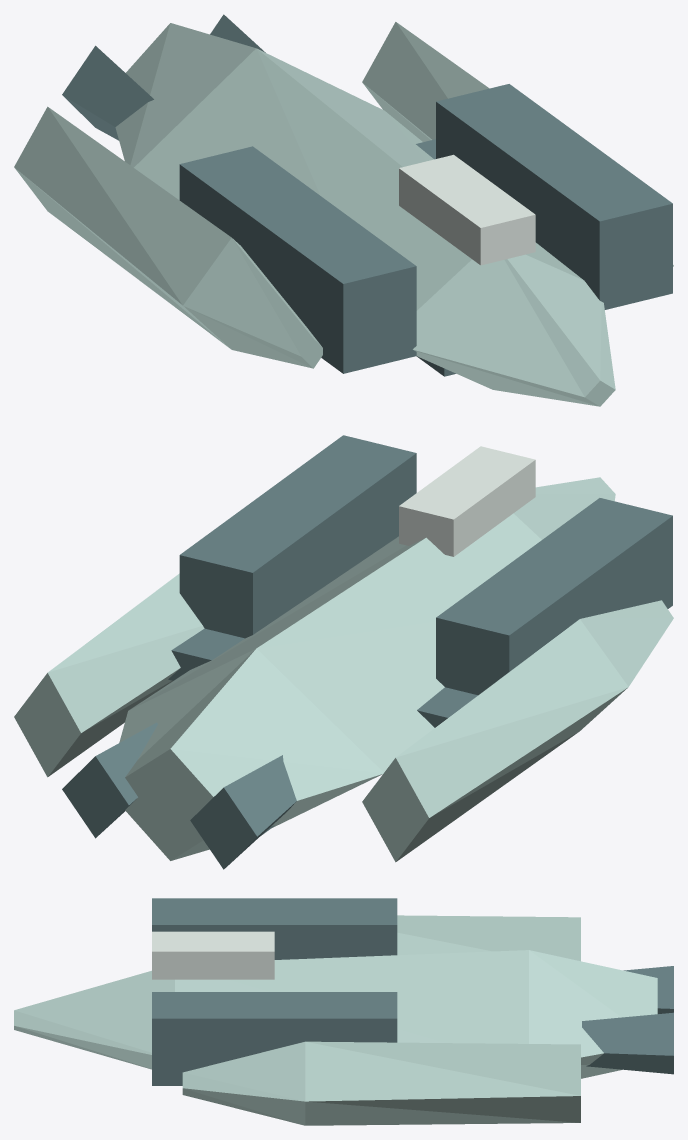
3 renders of one model, top to bottom at view 1: azimuth 30°, elevation 25°; view 2: azimuth 150°, elevation 25°; view 3: azimuth 270°, elevation 25°, orthographic. The views are drawn at different scales.
Size of the model in its own units: 2.72 by 1.16 by 4.65.
